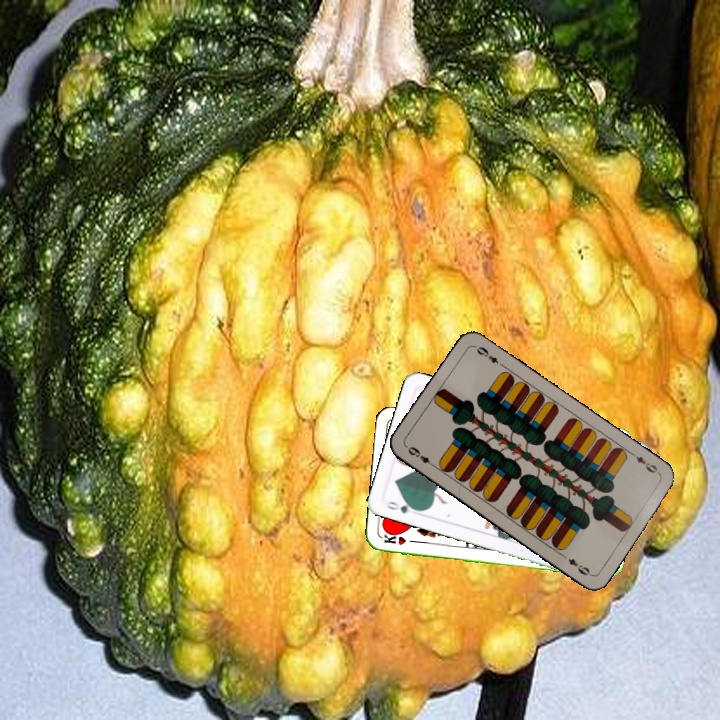E9: (627, 449, 663, 477), (404, 442, 438, 470)
GO: (382, 497, 422, 516)
HK: (380, 531, 420, 548)
